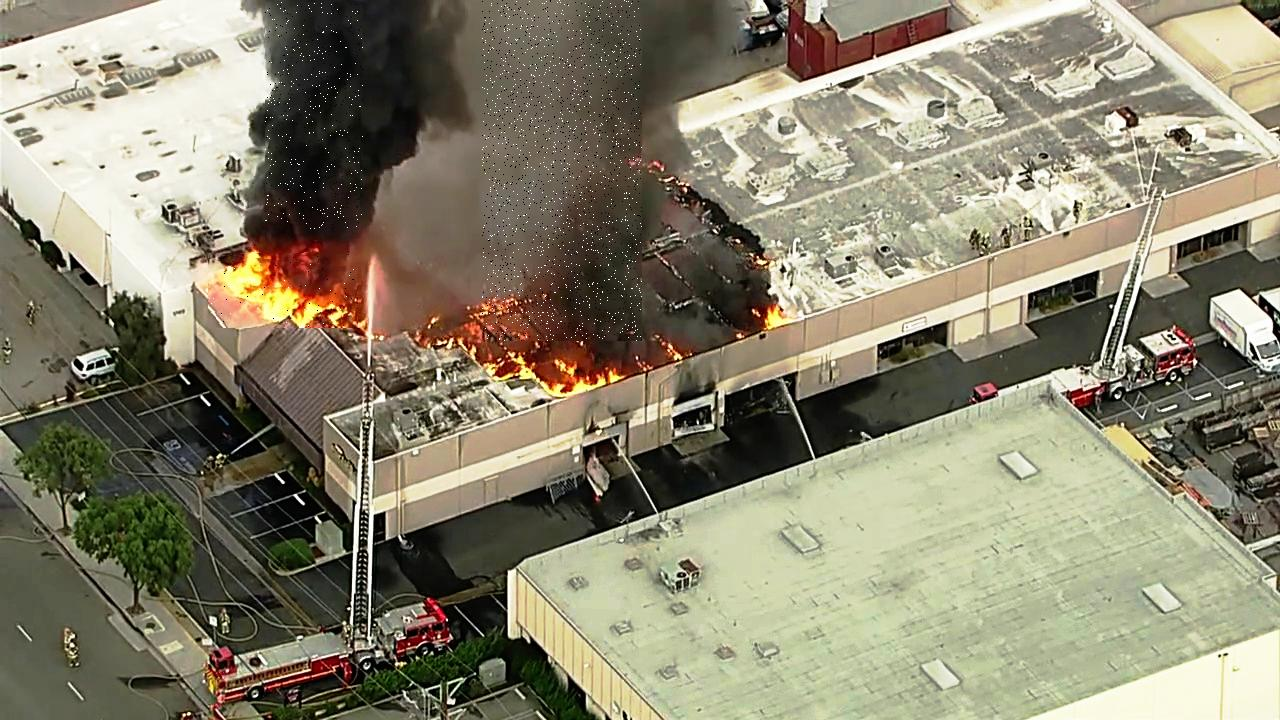fire: (209, 253, 361, 328)
smoke: (482, 0, 642, 341), (265, 3, 363, 230)
